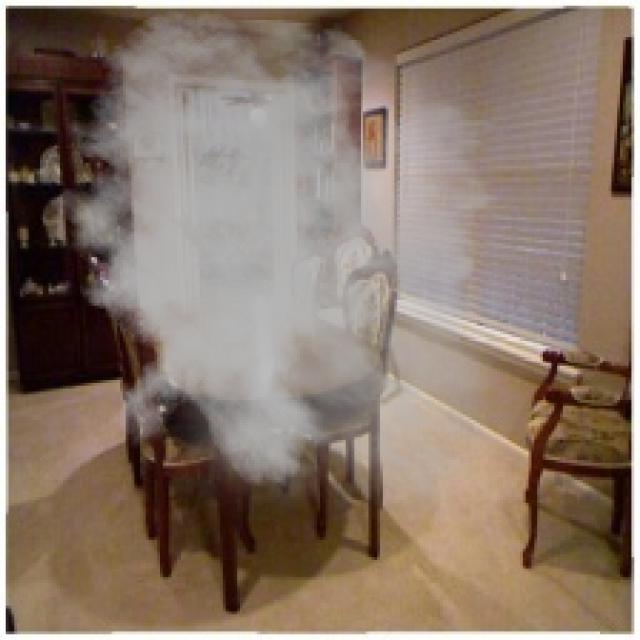smoke: (34, 9, 557, 534)
